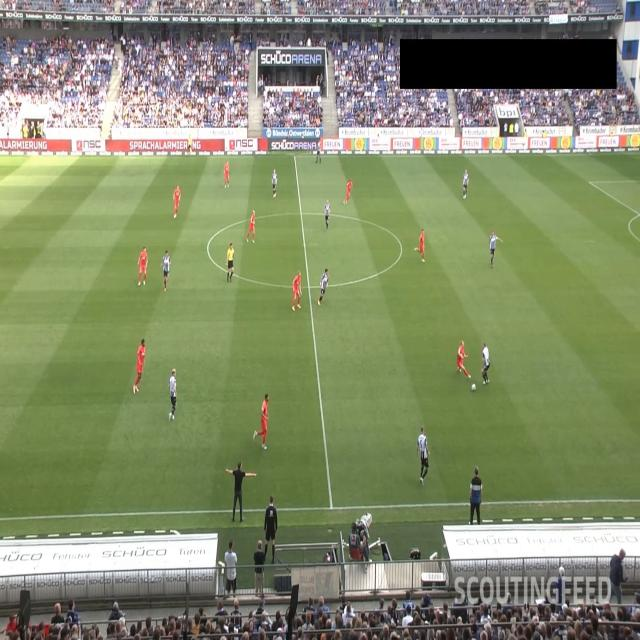ball: (471, 383, 476, 392)
